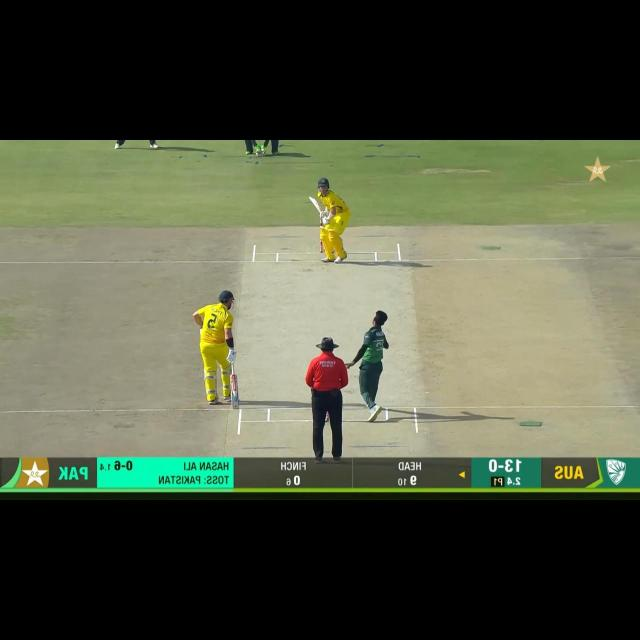bat: (228, 375, 241, 408), (308, 195, 324, 214)
toe: (231, 400, 240, 409), (308, 194, 316, 203)
